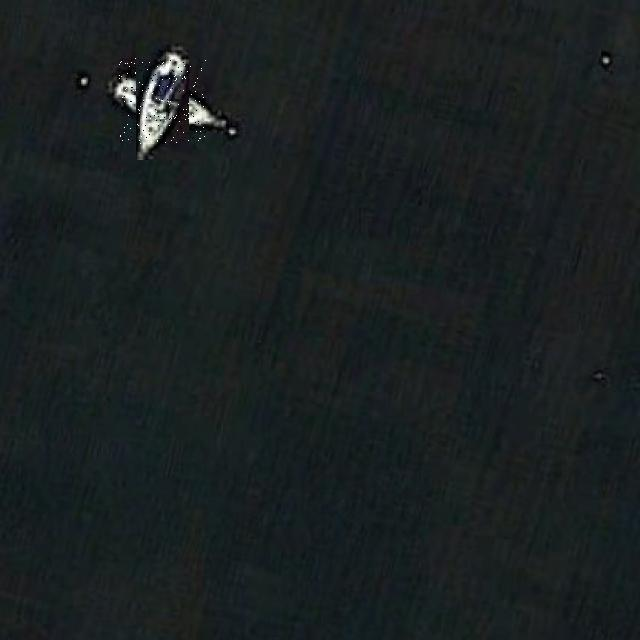boat: (119, 58, 206, 144)
